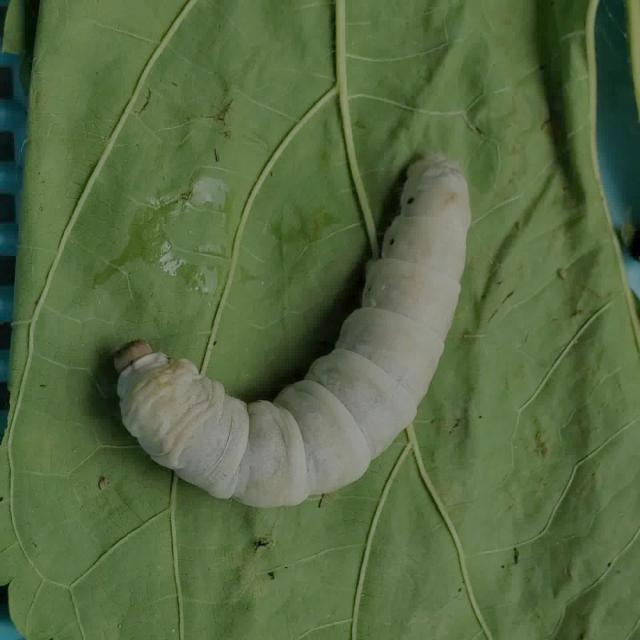Grasserie: (76, 129, 494, 525)
